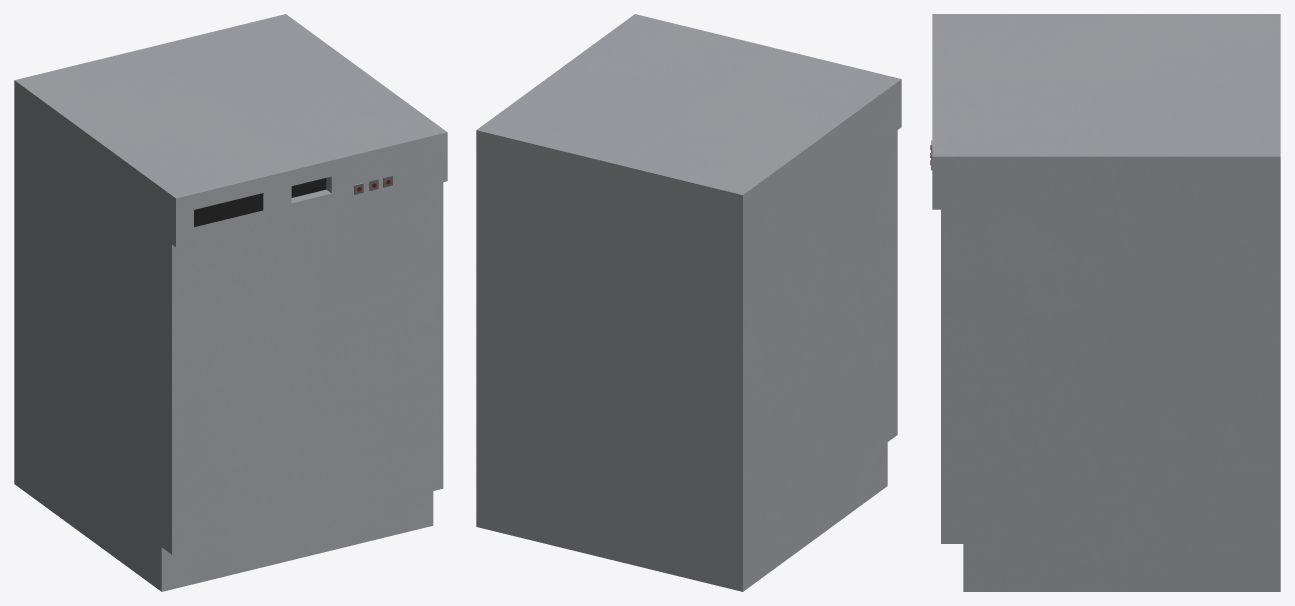
The model's file is tiskikone.fbx.
The picture shows the model from 3 angles, left to right: view 1: azimuth 30°, elevation 25°; view 2: azimuth 150°, elevation 25°; view 3: azimuth 270°, elevation 25°; orthographic projection. The views are drawn at different scales.
Parts seen in each view (by area): view 1: Cube.040; view 2: Cube.040; view 3: Cube.040.
Part boxes in pixels (x1,y1,x2,y2): Cube.040: [14, 14, 447, 591]; Cube.040: [476, 14, 901, 591]; Cube.040: [930, 14, 1280, 591].
Bounding box in the file's own units: 53.92 × 76.66 × 55.88.
4 materials, 1 textured.
